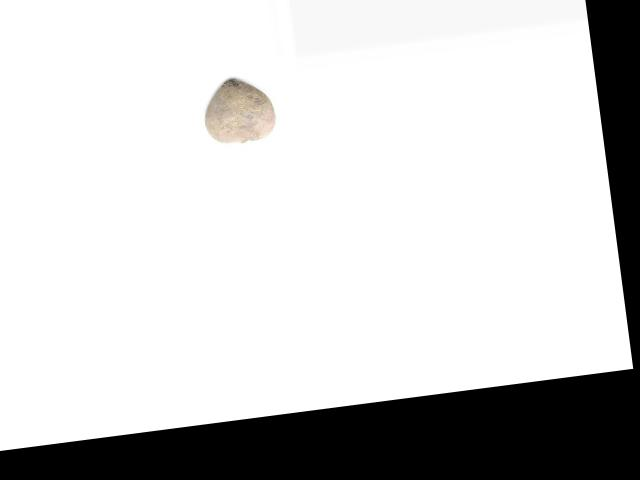beet: (199, 73, 278, 146)
